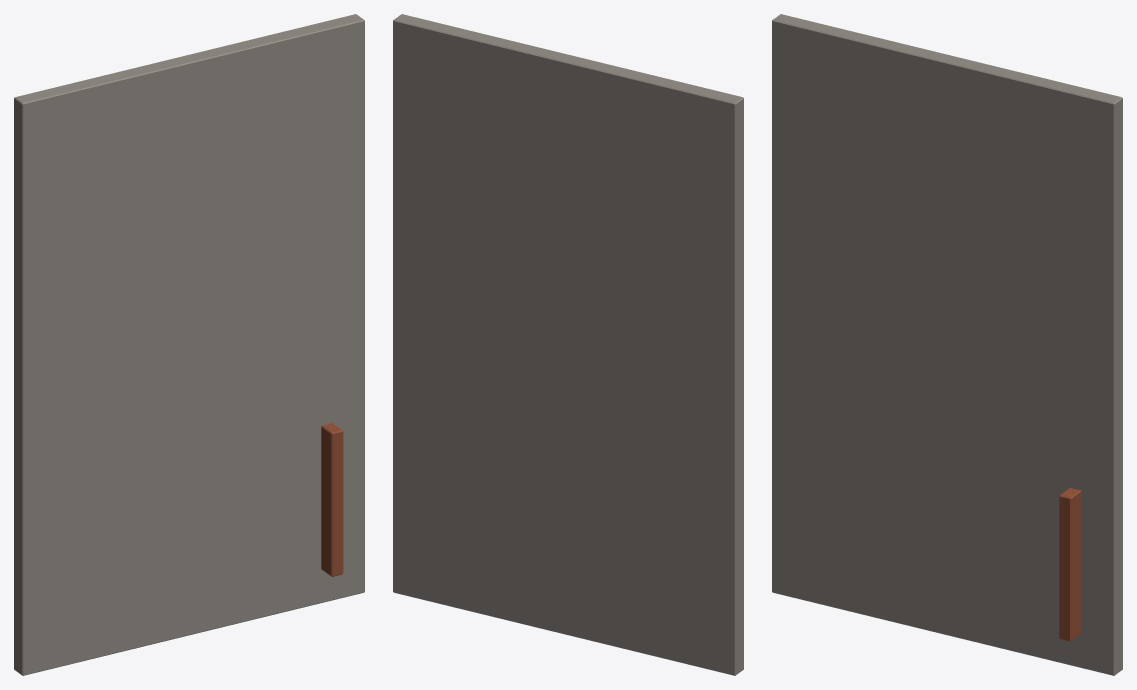
The model's file is wall_cabinet_combination_left_door.glb.
The picture shows the model from 3 angles, left to right: view 1: azimuth 30°, elevation 25°; view 2: azimuth 150°, elevation 25°; view 3: azimuth 330°, elevation 25°; orthographic projection.
Visible parts, largest first — view 1: wall_cabinet_combination_left_door.001; view 2: wall_cabinet_combination_left_door.001; view 3: wall_cabinet_combination_left_door.001.
Boxes of the visible parts, x1,y1,x2,y2 form: wall_cabinet_combination_left_door.001: (14, 14, 364, 675); wall_cabinet_combination_left_door.001: (393, 14, 743, 675); wall_cabinet_combination_left_door.001: (772, 14, 1122, 675).
Size of the model in its own units: 0.3985 by 0.636 by 0.04.
